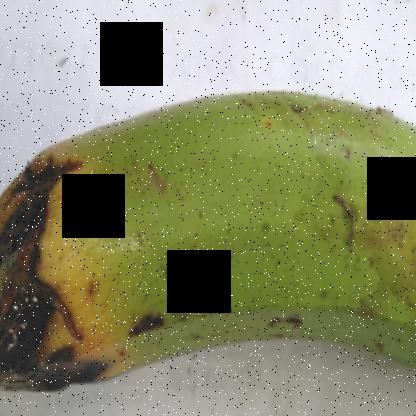rotten: (1, 128, 147, 409)
unripe: (128, 72, 416, 391)
